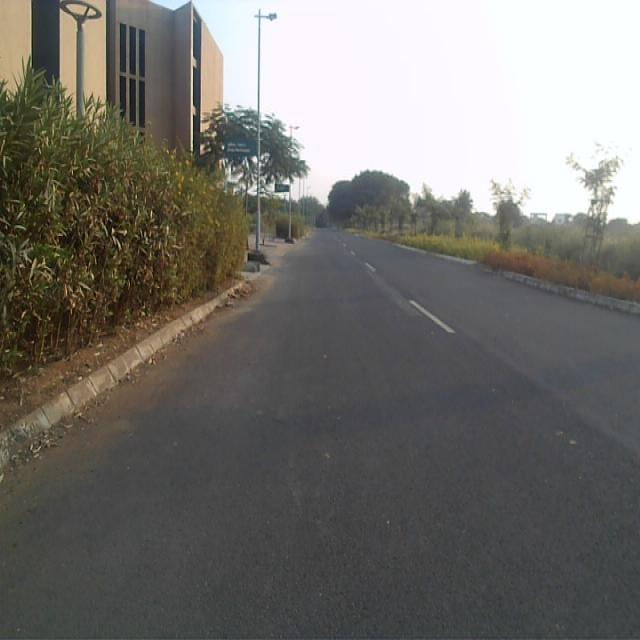lane: (0, 234, 640, 640)
